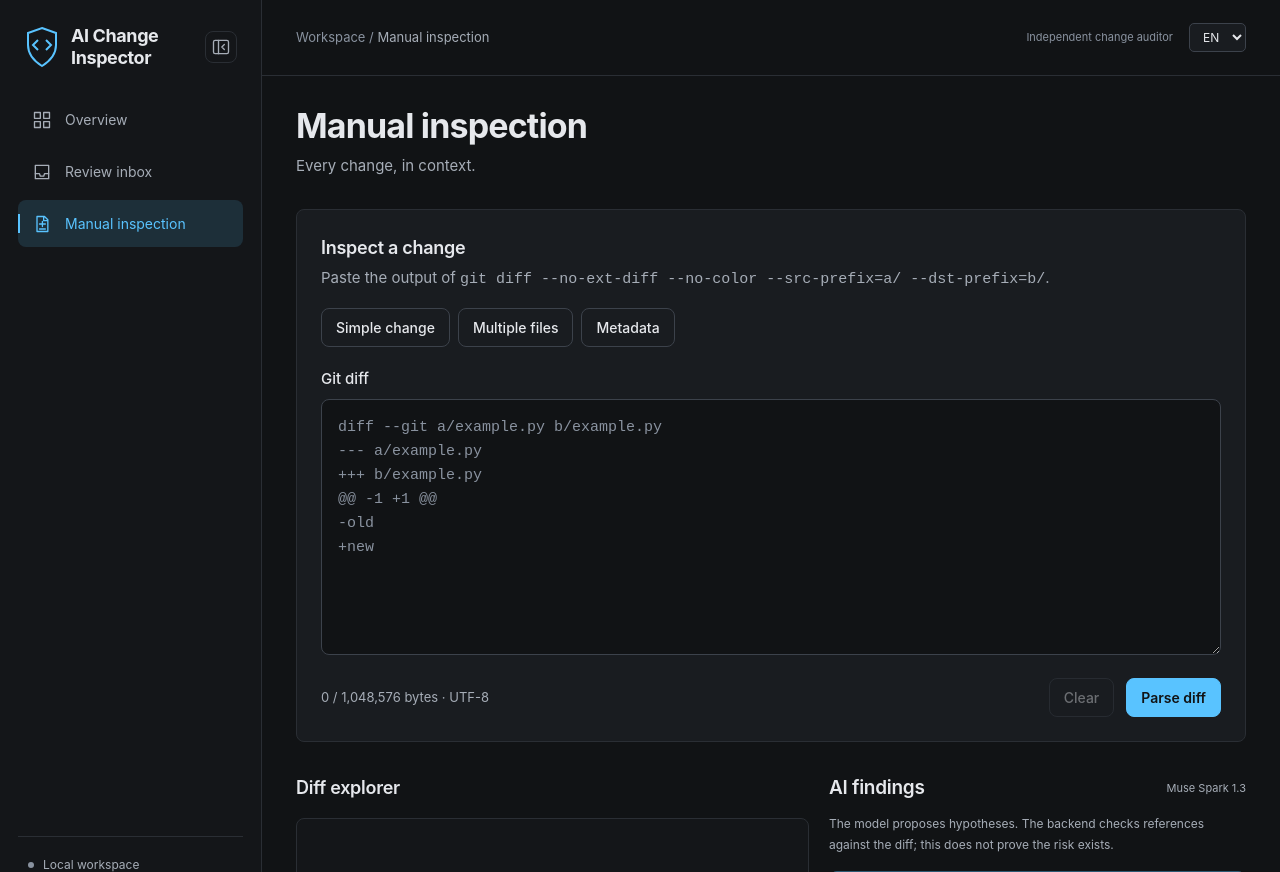
it: translates an already displayed validation error without another request
The image size is (1280, 872).
Click the button "Parse diff": (1174, 697) left=1126, top=678, right=1221, bottom=717
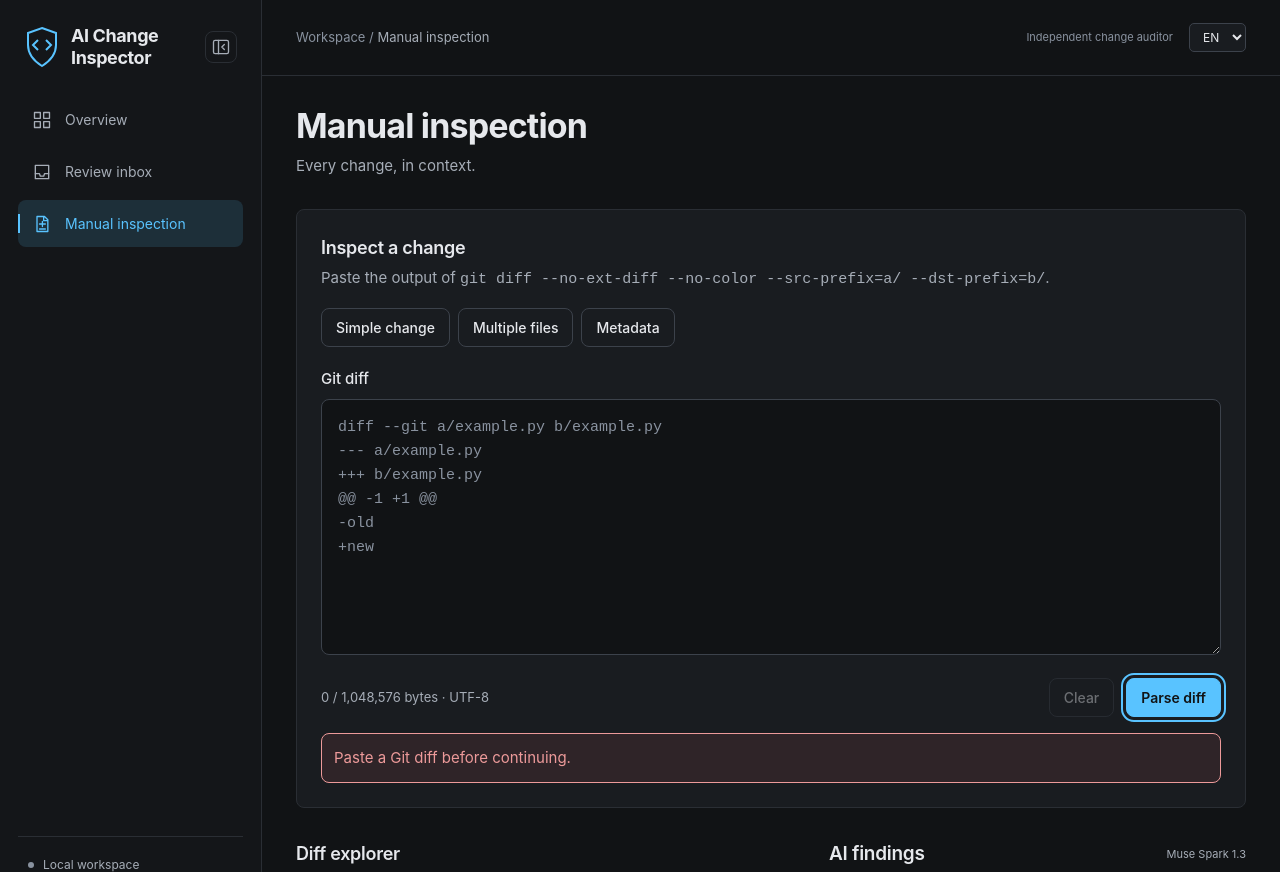
Expected: the message reads "Paste a Git diff before continuing.", left=334, top=748, right=571, bottom=767
Select "ES" in the dropdown: (1218, 38) left=1189, top=23, right=1246, bottom=52
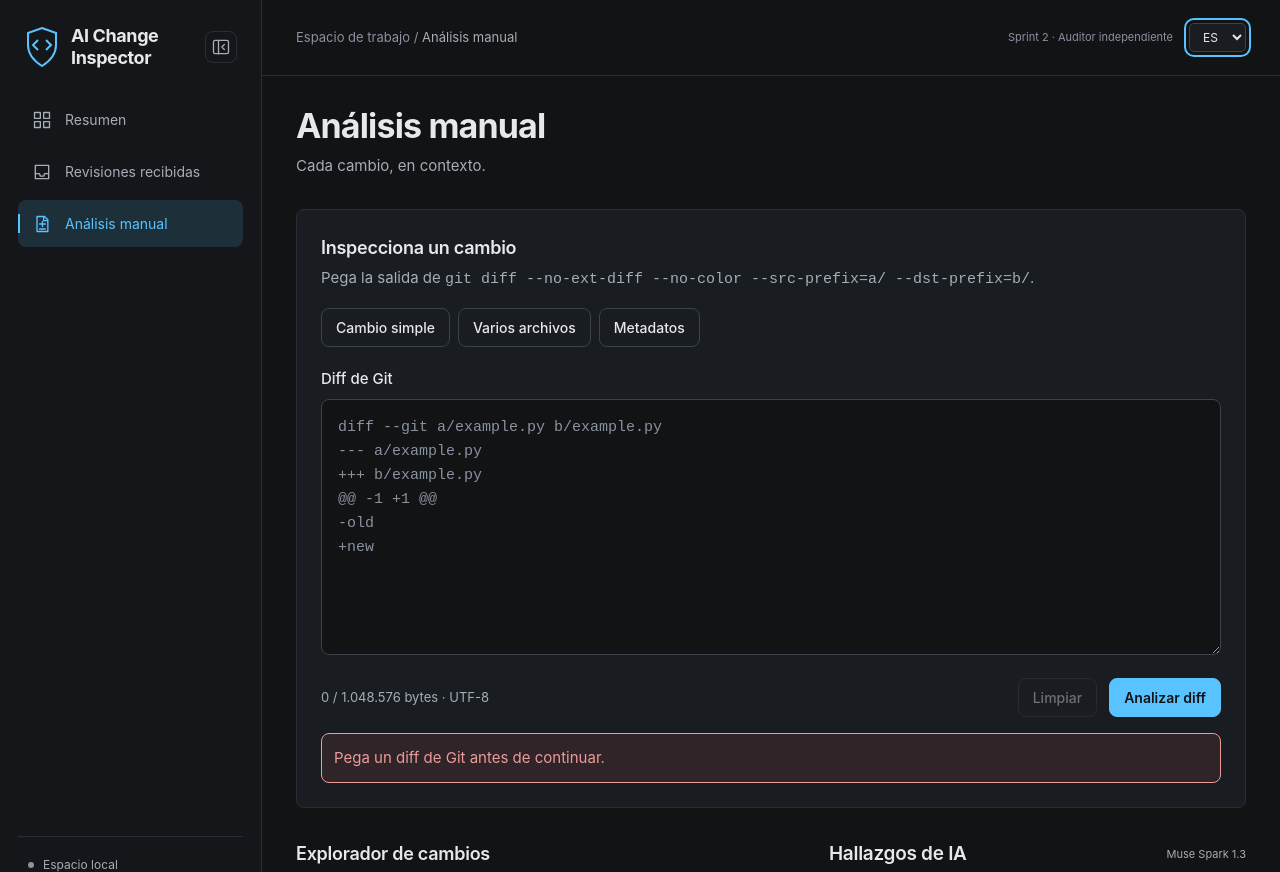
Expected: the message reads "Pega un diff de Git antes de continuar.", left=334, top=748, right=605, bottom=767
